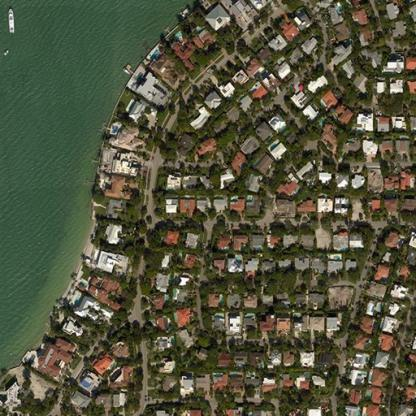ship: (7, 0, 15, 17), (3, 49, 8, 55)
